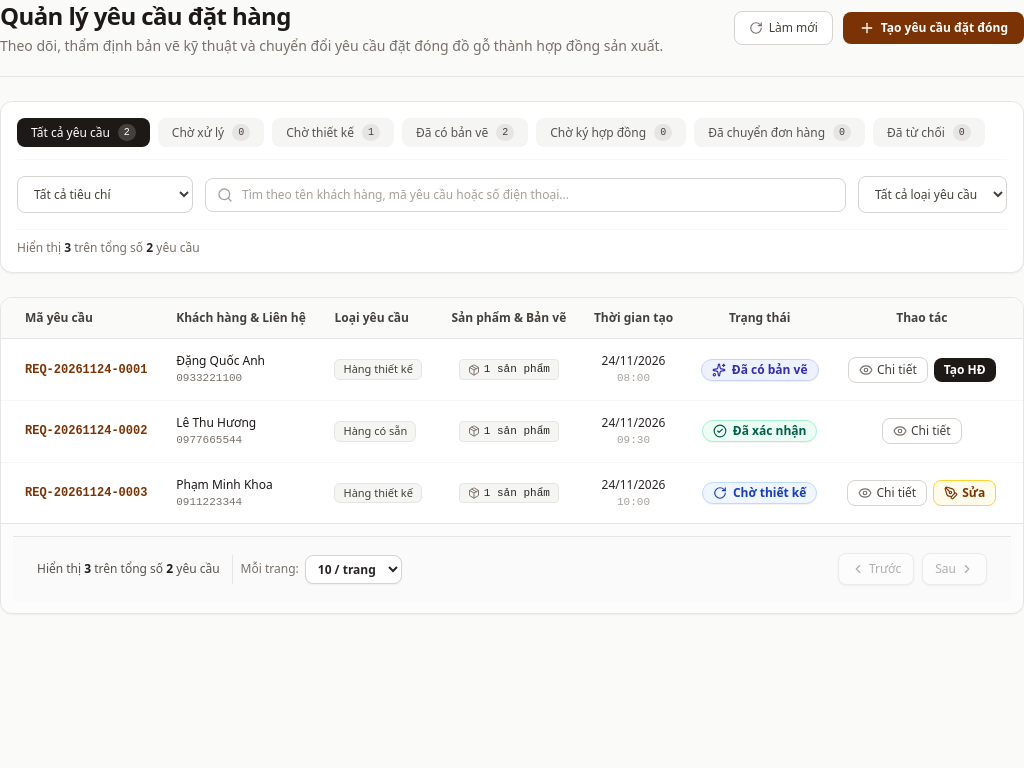
Test: RequestsPage Component › opens detail modal on clicking Chi tiết
Expected: the text "REQ-20261124-0001" is shown, [1, 339, 164, 400]
Click the button "Chi tiết" in the row of "REQ-20261124-0001" at x=888, y=370, box [848, 357, 928, 383]
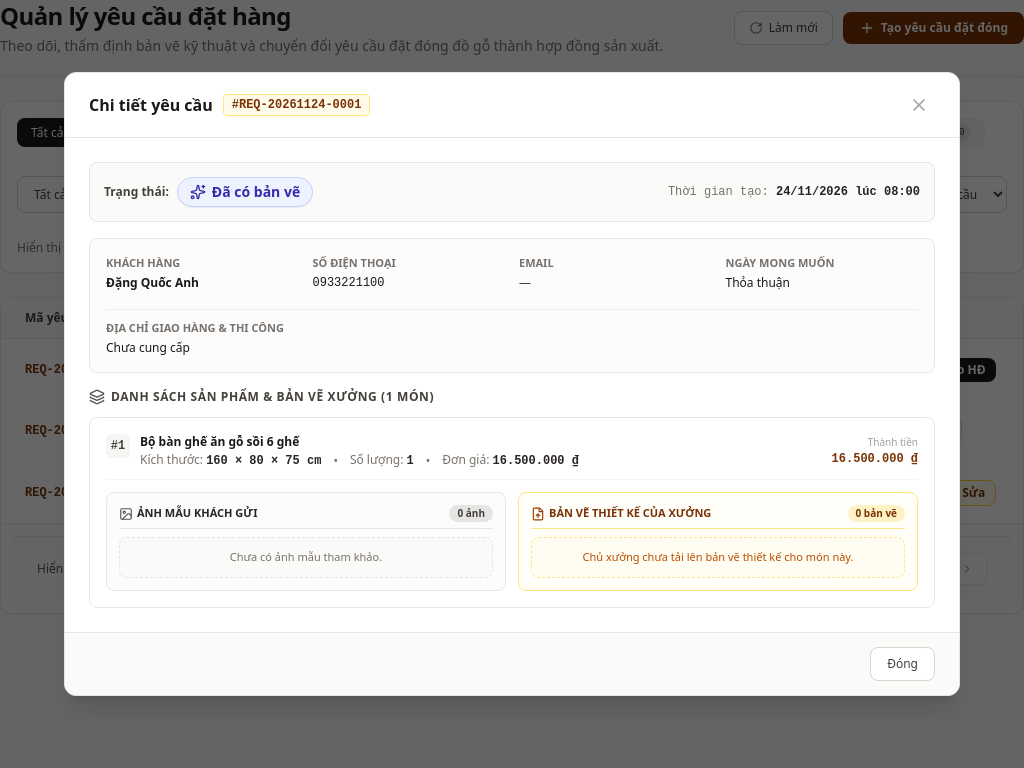
Result: the heading "Chi tiết yêu cầu" is shown at [89, 93, 213, 117]
Result: the text "#REQ-20261124-0001" is shown at [223, 94, 370, 116]
Result: the heading "Bộ bàn ghế ăn gỗ sồi 6 ghế" is shown at [140, 433, 299, 450]
